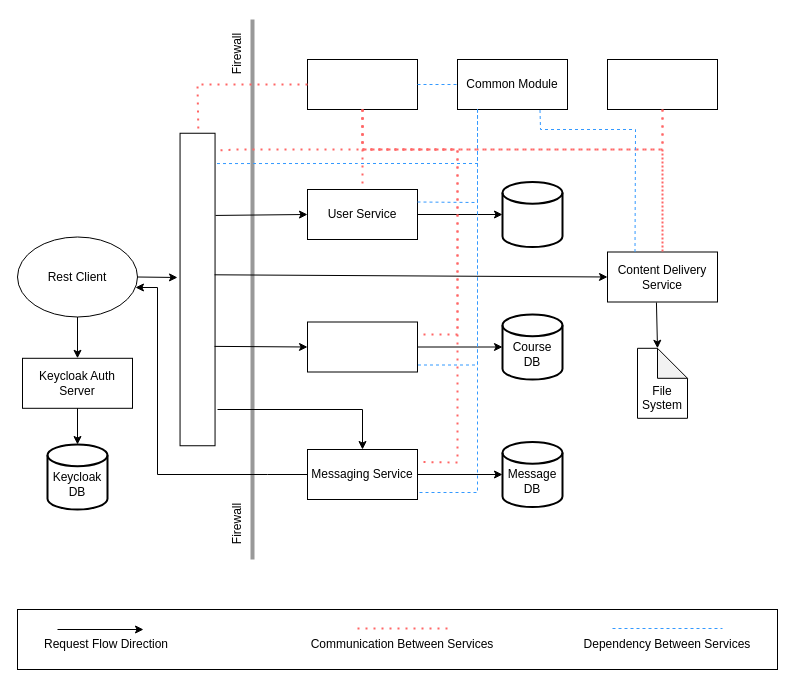
Some shapes in this 795 by 687 pixel diagram are drawn without their labels. The shapes that lost their labels are listed below. From the top down, each one's box as (x1, y1, x2, y2) in pixels, then its label:
(306, 58, 418, 110): Discovery Server
(606, 58, 718, 110): Cloud Config Server
(501, 180, 563, 248): User DB
(179, 132, 215, 446): API Gateway
(306, 321, 418, 372): Course Management Service
